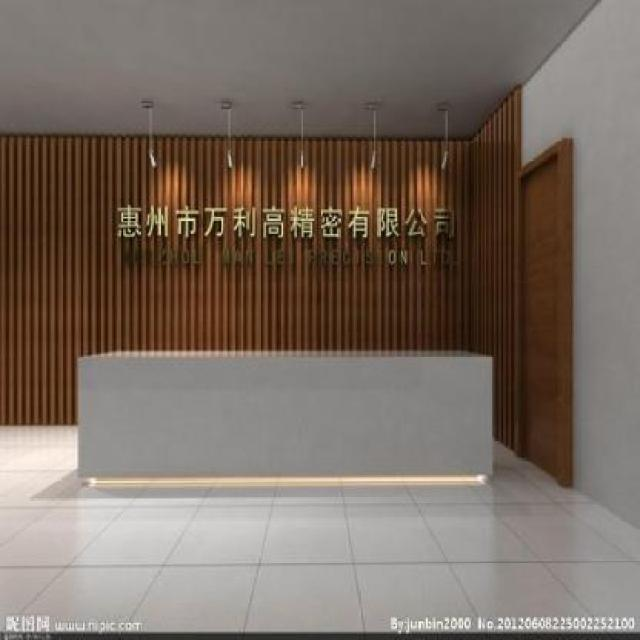frontdesk: (72, 336, 506, 496)
